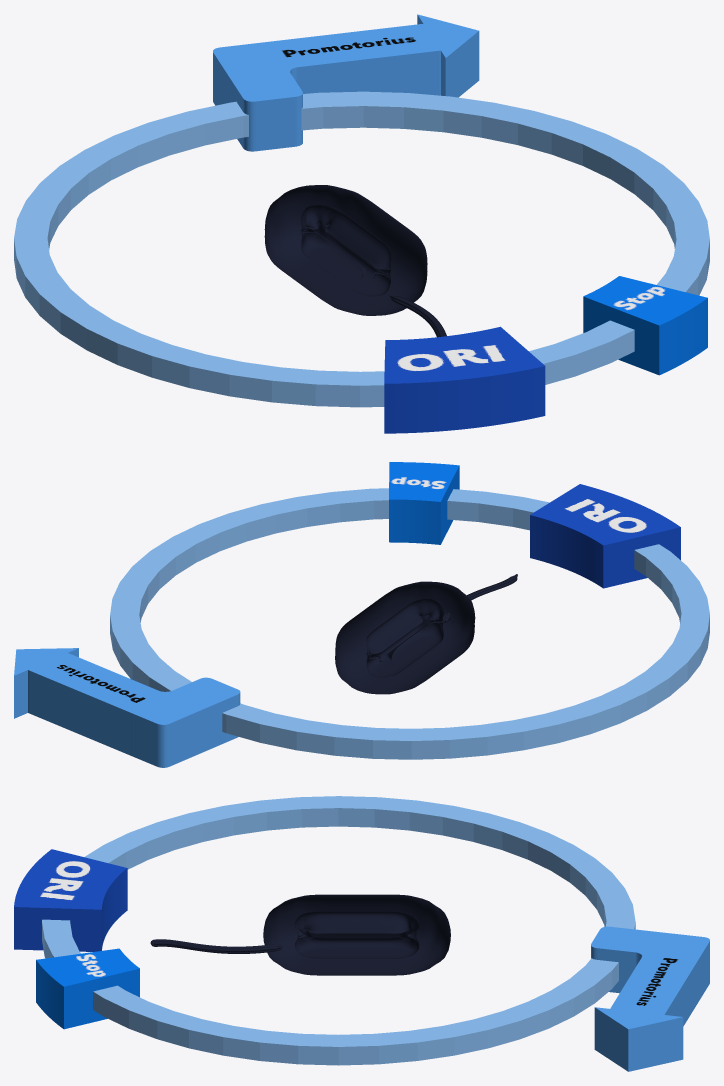
Rendered from circuit.glb.
3 renders of one model, top to bottom at view 1: azimuth 30°, elevation 25°; view 2: azimuth 150°, elevation 25°; view 3: azimuth 270°, elevation 25°, orthographic. The views are drawn at different scales.
Visible parts, largest first — view 1: prom_Curve.001, prom_Curve.004, Curve.002_Curve.001, prom_Curve.003, prom_Curve.006; view 2: prom_Curve.001, prom_Curve.004, Curve.002_Curve.001, prom_Curve.003, prom_Curve.006; view 3: prom_Curve.001, Curve.002_Curve.001, prom_Curve.004, prom_Curve.003, prom_Curve.006.
Part boxes in pixels (x1,y1,x2,y2): prom_Curve.001: (14, 91, 709, 407); prom_Curve.004: (213, 14, 479, 151); Curve.002_Curve.001: (264, 185, 446, 337); prom_Curve.003: (384, 326, 545, 433); prom_Curve.006: (583, 276, 707, 375); prom_Curve.001: (110, 488, 709, 759); prom_Curve.004: (14, 648, 240, 767); Curve.002_Curve.001: (335, 574, 517, 694); prom_Curve.003: (530, 484, 680, 588); prom_Curve.006: (389, 462, 459, 544); prom_Curve.001: (42, 796, 635, 1065); Curve.002_Curve.001: (150, 894, 450, 975); prom_Curve.004: (591, 926, 709, 1071); prom_Curve.003: (14, 849, 127, 951); prom_Curve.006: (36, 948, 139, 1029).
Size of what is drawn, in the model's own units: 0.1363 by 0.0154 by 0.1597.
Materials: 5 (4 with a texture image).
